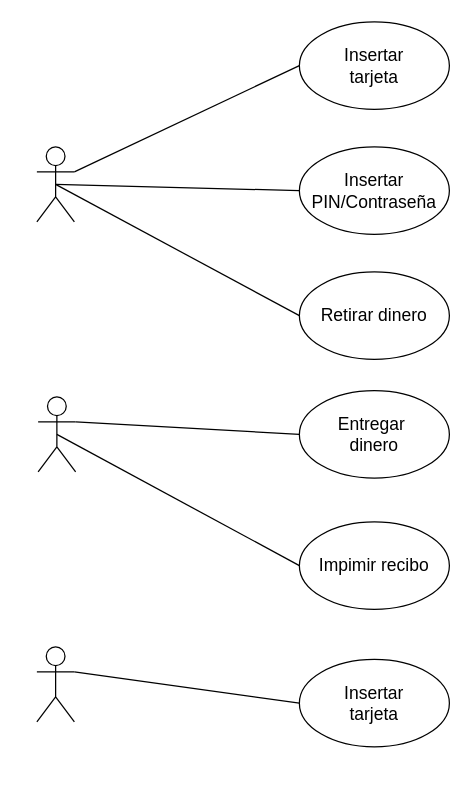
This 471x785 diagram has some shape labels left out. Each missing label, with the centre of its shape:
Cajero automatico: point (56, 434)
Cliente: point (55, 184)
Empleado de agencia: point (55, 684)
